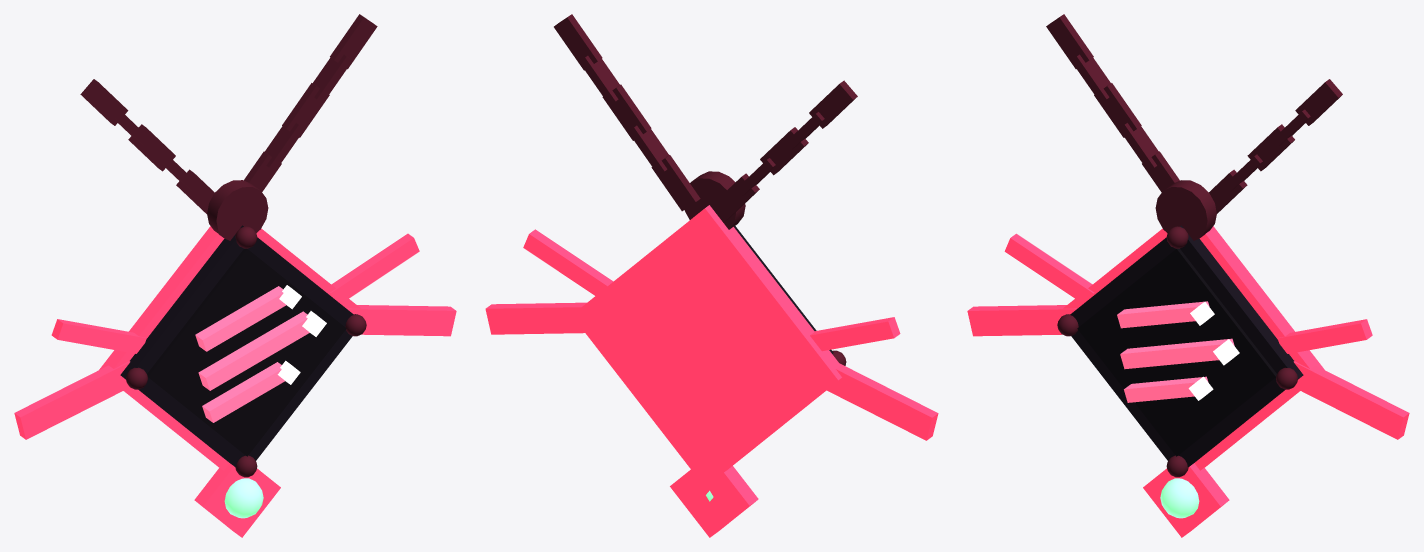
3 views of the same model, side by side, from view 1: azimuth 30°, elevation 25°; view 2: azimuth 150°, elevation 25°; view 3: azimuth 330°, elevation 25° (orthographic). The views are drawn at different scales.
Parts seen in each view (by area): view 1: scarlet-wind-pendant; view 2: scarlet-wind-pendant; view 3: scarlet-wind-pendant.
Part boxes in pixels (x1=…): scarlet-wind-pendant: x1=14, y1=14, x2=456, y2=537; scarlet-wind-pendant: x1=485, y1=14, x2=938, y2=537; scarlet-wind-pendant: x1=967, y1=14, x2=1409, y2=537.
Size of the model in its own units: 0.3476 by 0.3658 by 0.0472.
